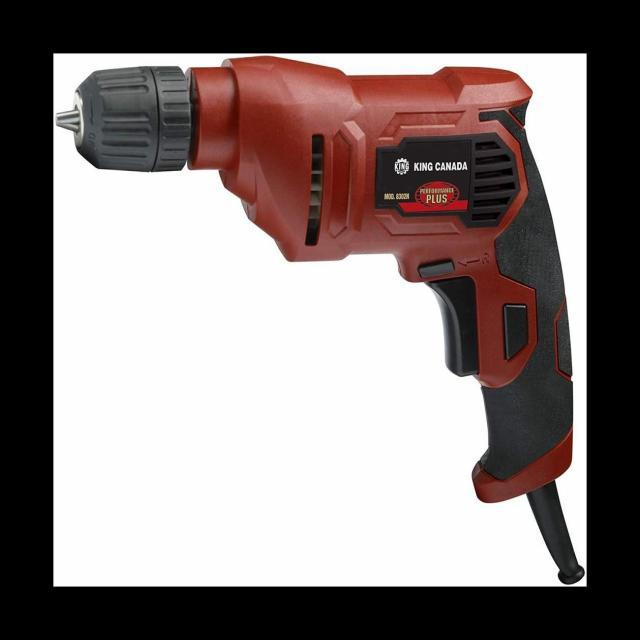drill: (55, 55, 586, 586)
